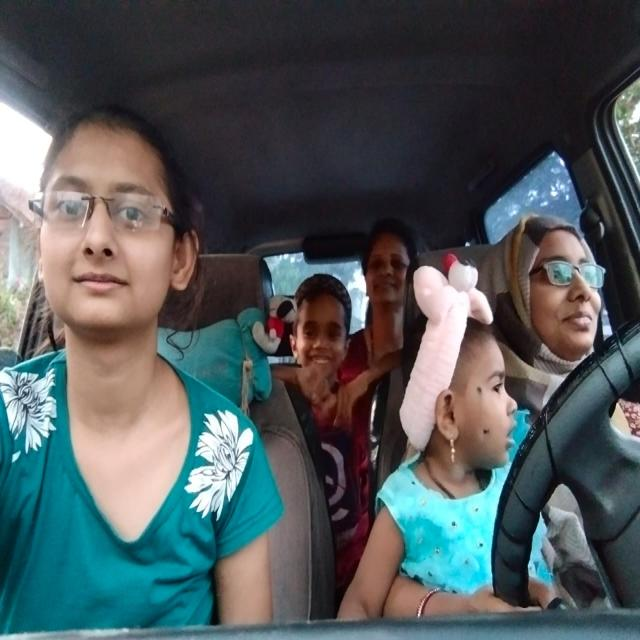child: (424, 324, 524, 480)
person: (30, 115, 202, 338), (512, 228, 608, 362), (292, 267, 363, 388), (360, 217, 418, 318)
